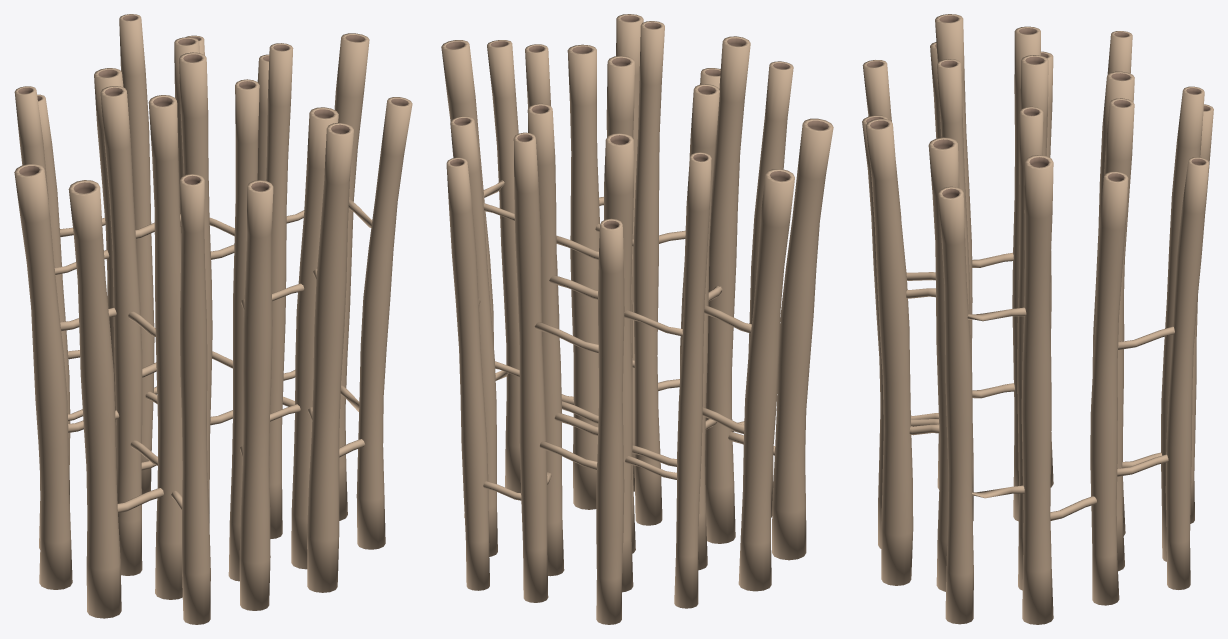
File: syringopora.glb
3 renders of one model, left to right at view 1: azimuth 30°, elevation 25°; view 2: azimuth 150°, elevation 25°; view 3: azimuth 270°, elevation 25°, orthographic.
Visible parts, largest first — view 1: separate-growing-corallites-with-deep-calyces, intermittent-lateral-connecting-tubules; view 2: separate-growing-corallites-with-deep-calyces, intermittent-lateral-connecting-tubules; view 3: separate-growing-corallites-with-deep-calyces, intermittent-lateral-connecting-tubules.
Part boxes in pixels (box(x1,y1,x2,y2)): separate-growing-corallites-with-deep-calyces: box(14, 14, 412, 624); intermittent-lateral-connecting-tubules: box(54, 199, 372, 513); separate-growing-corallites-with-deep-calyces: box(441, 14, 833, 624); intermittent-lateral-connecting-tubules: box(478, 180, 775, 500); separate-growing-corallites-with-deep-calyces: box(862, 14, 1213, 624); intermittent-lateral-connecting-tubules: box(906, 252, 1174, 520).
Bounding box in the file's own units: 0.1326 × 0.18 × 0.1155.
